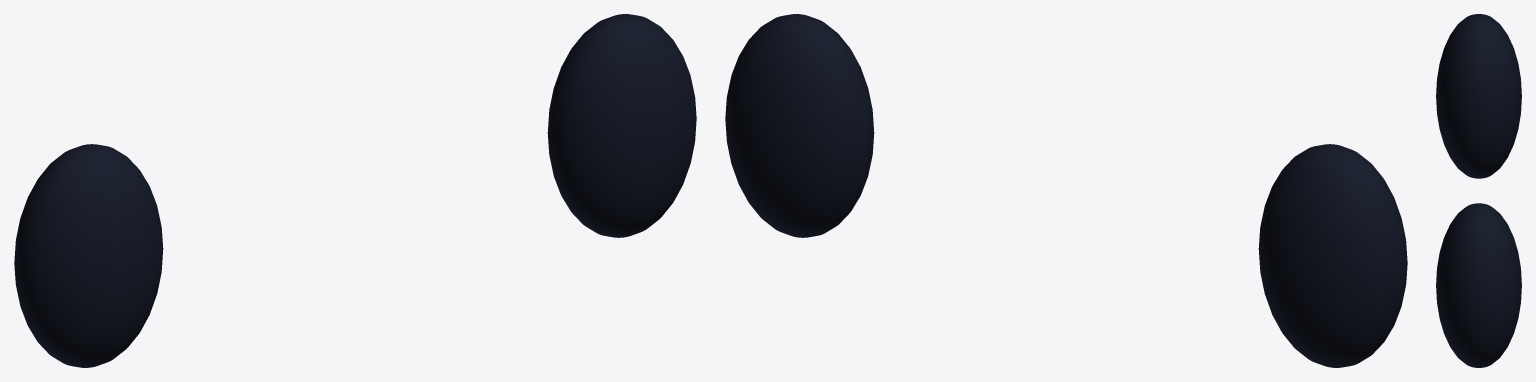
File: Pi Eyes.fbx
The picture shows the model from 3 angles, left to right: view 1: azimuth 30°, elevation 25°; view 2: azimuth 150°, elevation 25°; view 3: azimuth 270°, elevation 25°; orthographic projection. The views are drawn at different scales.
Parts seen in each view (by area): view 1: Pi Eyes; view 2: Pi Eyes; view 3: Pi Eyes.
Boxes of the visible parts, x1,y1,x2,y2 form: Pi Eyes: (14,14,696,367); Pi Eyes: (725,14,1407,367); Pi Eyes: (1436,14,1521,367).
Bounding box in the file's own units: 119 × 36.86 × 18.15.
